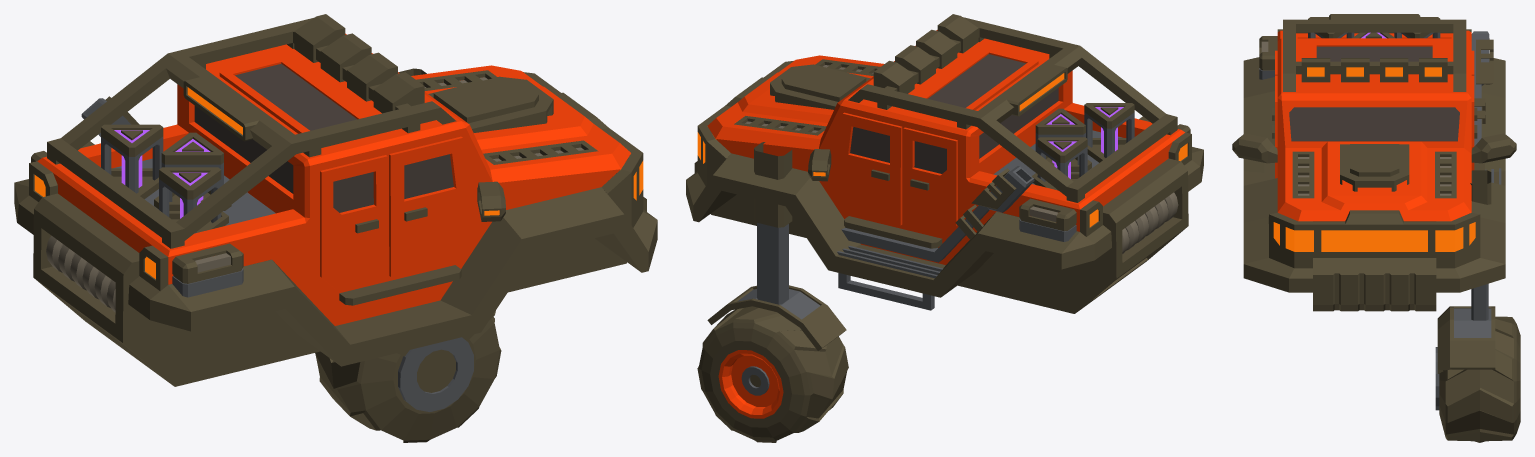
3 renders of one model, left to right at view 1: azimuth 30°, elevation 25°; view 2: azimuth 150°, elevation 25°; view 3: azimuth 270°, elevation 25°, orthographic. The views are drawn at different scales.
Parts seen in each view (by area): view 1: common, bodyPainted.001, wheel.006, wheelGuard.001, energy.001, cellsCage.003, cellsCage.005, cellsCage.004; view 2: common, bodyPainted.001, wheel.006, wheelSuspension.002, wheelGuard.001, wheelPainted, energy.001, cellsCage.005, cellsCage.003, cellsCage.004; view 3: common, bodyPainted.001, wheel.006, headlights.001, wheelGuard.001, wheelSuspension.002, energy.001, cellsCage.003, cellsCage.005.
Boxes of the visible parts, x1,y1,x2,y2 form: common: (14,14,657,386); bodyPainted.001: (37,33,630,325); wheel.006: (315,317,501,442); wheelGuard.001: (397,310,495,411); energy.001: (46,77,583,312); cellsCage.003: (101,124,163,193); cellsCage.005: (159,167,221,233); cellsCage.004: (161,132,223,201); common: (686,14,1203,313); bodyPainted.001: (707,30,1184,264); wheel.006: (697,306,848,442); wheelSuspension.002: (754,142,792,304); wheelGuard.001: (707,285,846,350); wheelPainted: (718,350,783,418); energy.001: (745,65,1178,253); cellsCage.005: (1084,103,1134,157); cellsCage.003: (1037,137,1087,190); cellsCage.004: (1035,108,1085,164); common: (1232,14,1516,311); bodyPainted.001: (1275,30,1474,221); wheel.006: (1439,316,1520,442); headlights.001: (1285,67,1463,251); wheelGuard.001: (1435,306,1495,410); wheelSuspension.002: (1470,170,1491,320); energy.001: (1261,41,1451,195); cellsCage.003: (1394,17,1440,38); cellsCage.005: (1308,17,1354,38).
Bounding box in the file's own units: 2.99 × 2.48 × 1.91.
5 materials, 1 textured.
